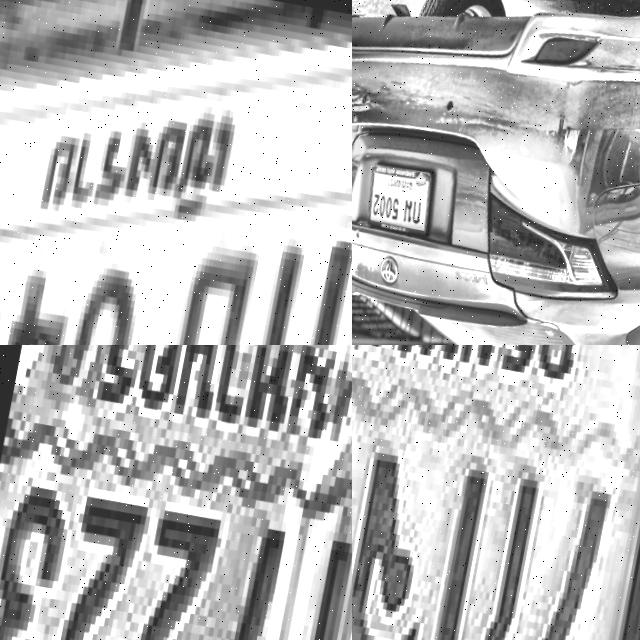license-plate: (0, 0, 352, 345), (0, 345, 352, 640), (352, 345, 640, 640), (352, 152, 440, 251)
